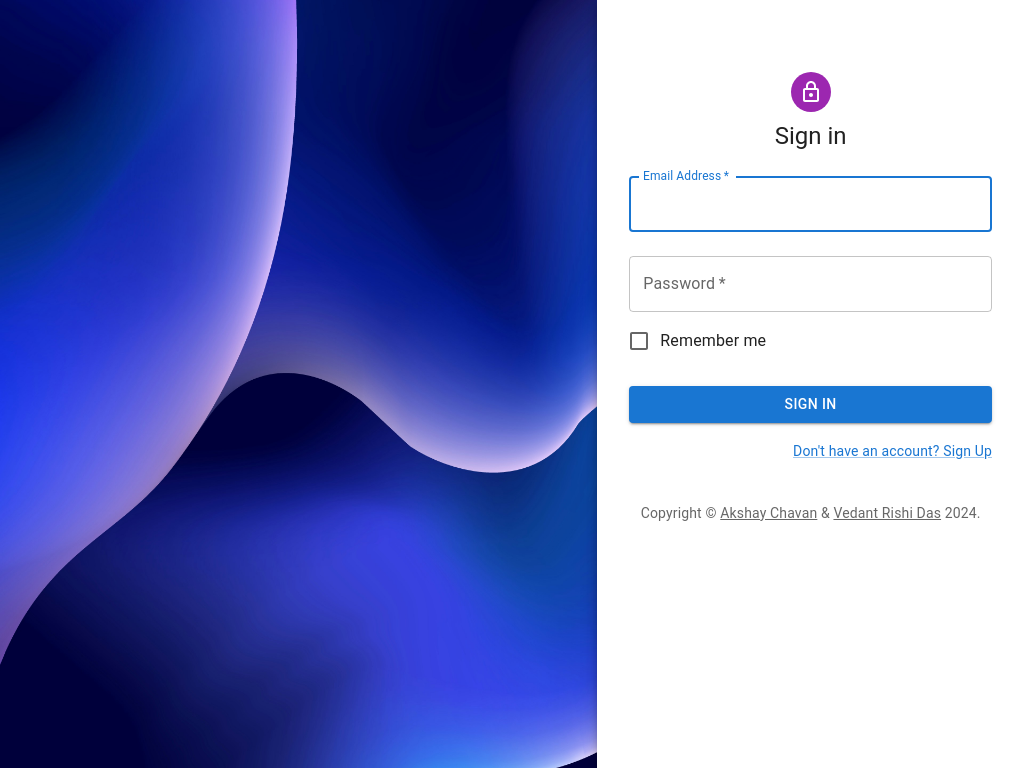
Test case: Login Component › displays error message on failed login attempt
Type "example@example.com" into the field with id "email" at (811, 204), box [629,176,992,232]
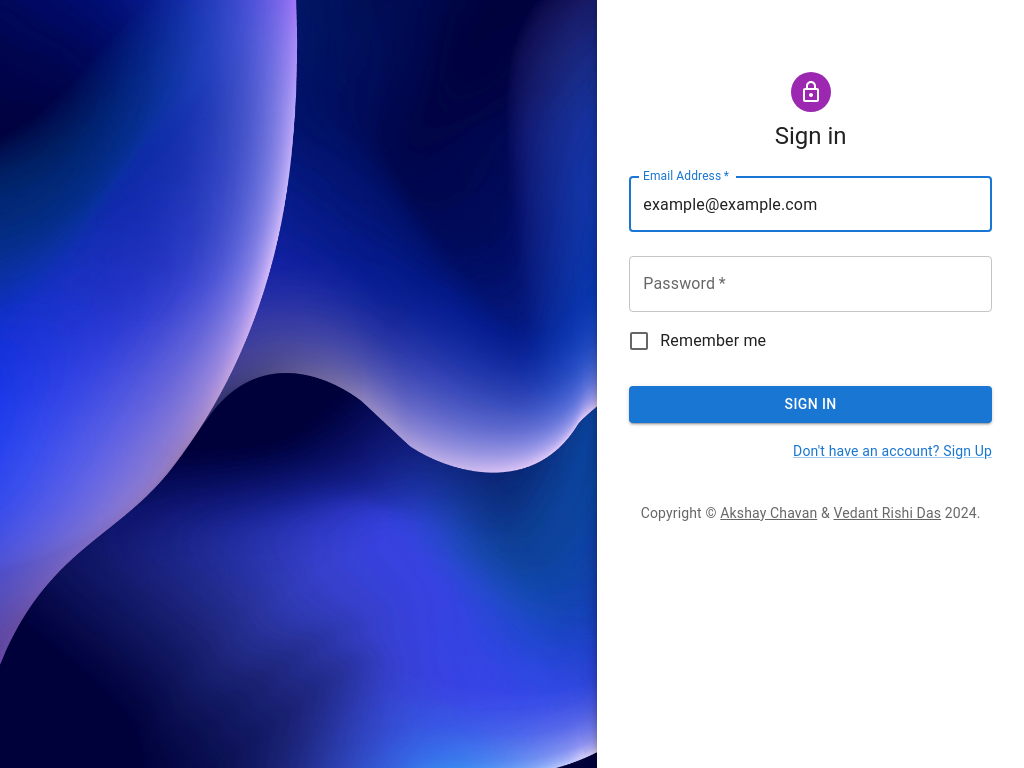
Type "incorrectpassword" into the password field labelled "Password *" at (811, 284), box [629,256,992,312]
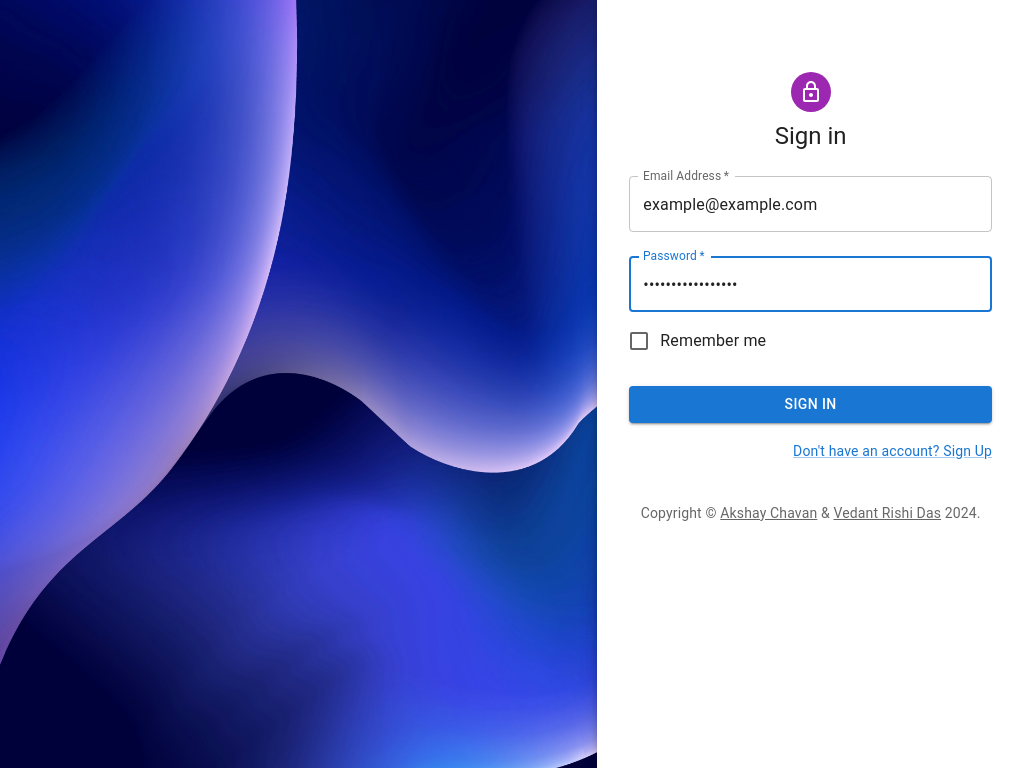
Click the submit button at (811, 405), box [629,386,992,423]
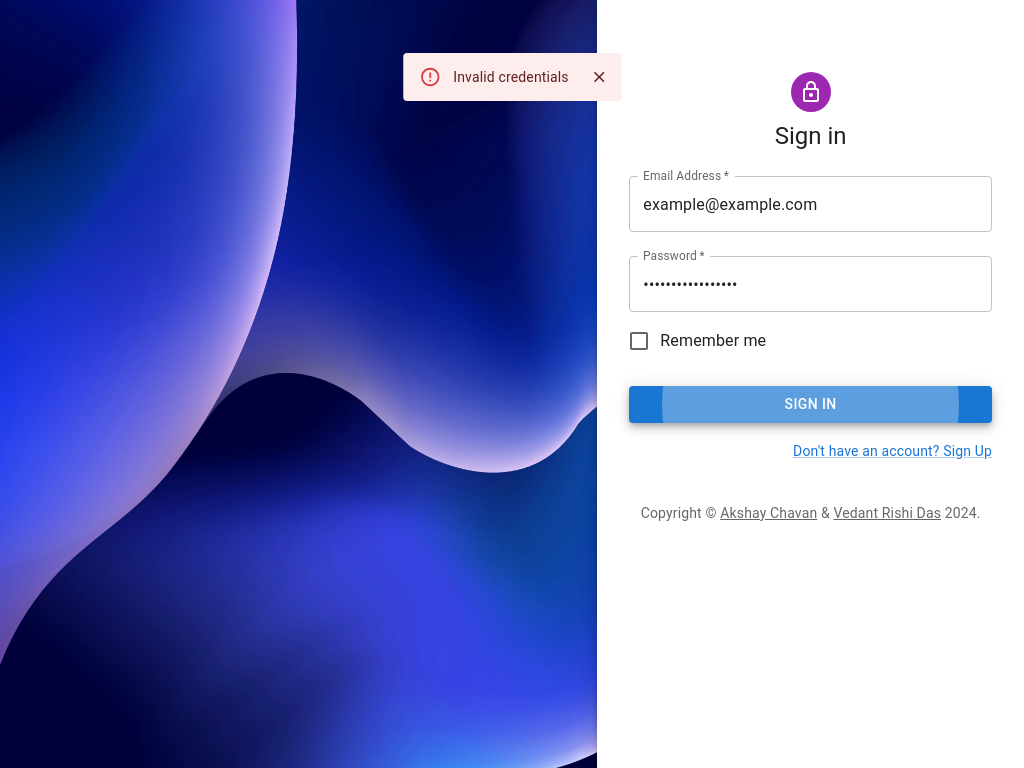
Result: the text "Invalid credentials" is shown at [453,69,569,85]
